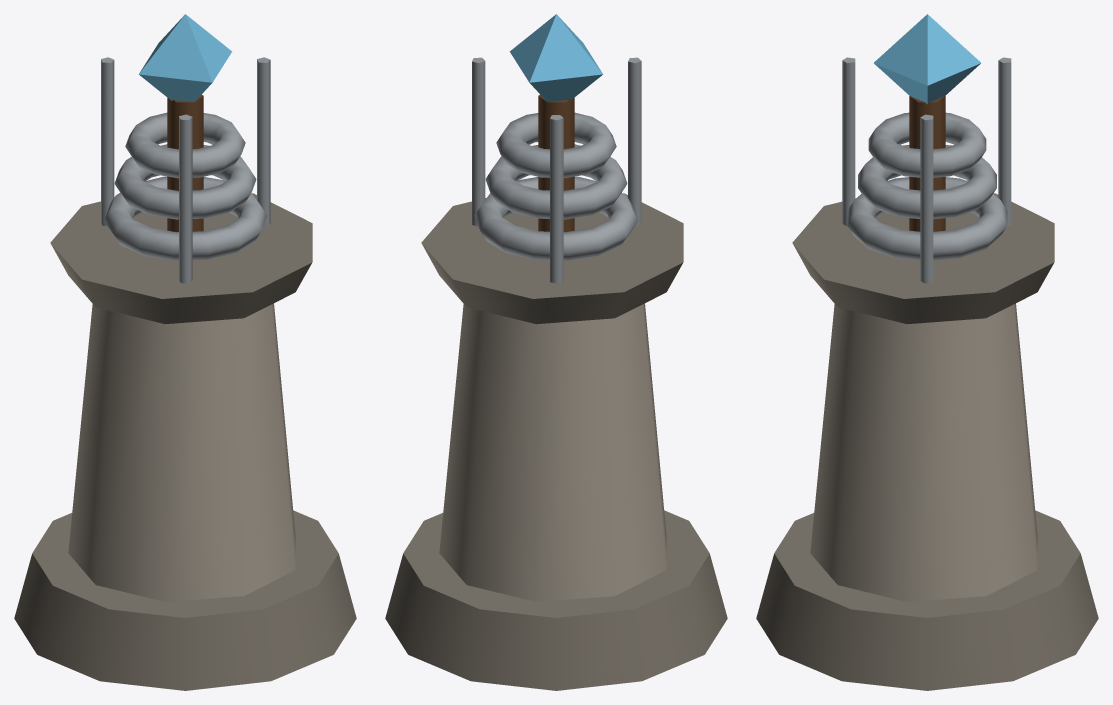
Rendered from tower_chain.glb.
3 views of the same model, side by side, from view 1: azimuth 30°, elevation 25°; view 2: azimuth 150°, elevation 25°; view 3: azimuth 270°, elevation 25° (orthographic).
Parts seen in each view (by area): view 1: tower_shaft, tower_base, shaft_cap, coil_1, spark_crystal, coil_3, coil_2, rod_2, rod_1, rod_3, coil_core; view 2: tower_shaft, tower_base, shaft_cap, coil_1, spark_crystal, coil_3, coil_2, rod_3, rod_2, rod_1, coil_core; view 3: tower_shaft, tower_base, shaft_cap, coil_1, spark_crystal, coil_3, coil_2, rod_1, rod_2, rod_3, coil_core.
Boxes of the visible parts, x1=… form: tower_shaft: x1=68, y1=303, x2=295, y2=601; tower_base: x1=14, y1=510, x2=356, y2=690; shaft_cap: x1=50, y1=193, x2=312, y2=324; coil_1: x1=103, y1=176, x2=267, y2=260; spark_crystal: x1=139, y1=14, x2=232, y2=102; coil_3: x1=125, y1=112, x2=245, y2=178; coil_2: x1=114, y1=144, x2=256, y2=219; rod_2: x1=179, y1=114, x2=192, y2=283; rod_1: x1=257, y1=57, x2=270, y2=226; rod_3: x1=101, y1=57, x2=114, y2=225; coil_core: x1=167, y1=94, x2=203, y2=232; tower_shaft: x1=439, y1=303, x2=666, y2=601; tower_base: x1=385, y1=510, x2=727, y2=690; shaft_cap: x1=421, y1=193, x2=683, y2=324; coil_1: x1=474, y1=176, x2=638, y2=260; spark_crystal: x1=509, y1=14, x2=602, y2=102; coil_3: x1=496, y1=112, x2=616, y2=178; coil_2: x1=485, y1=144, x2=627, y2=219; rod_3: x1=550, y1=115, x2=563, y2=283; rod_2: x1=628, y1=57, x2=641, y2=226; rod_1: x1=472, y1=57, x2=485, y2=226; coil_core: x1=538, y1=94, x2=574, y2=232; tower_shaft: x1=810, y1=303, x2=1037, y2=601; tower_base: x1=756, y1=510, x2=1098, y2=690; shaft_cap: x1=792, y1=193, x2=1054, y2=324; coil_1: x1=847, y1=177, x2=1007, y2=260; spark_crystal: x1=874, y1=14, x2=980, y2=104; coil_3: x1=868, y1=112, x2=986, y2=177; coil_2: x1=858, y1=145, x2=996, y2=219; rod_1: x1=920, y1=114, x2=933, y2=283; rod_2: x1=842, y1=57, x2=855, y2=226; rod_3: x1=998, y1=57, x2=1011, y2=225; coil_core: x1=909, y1=96, x2=945, y2=231.
Size of the model in its own units: 0.38 by 0.74 by 0.38.
